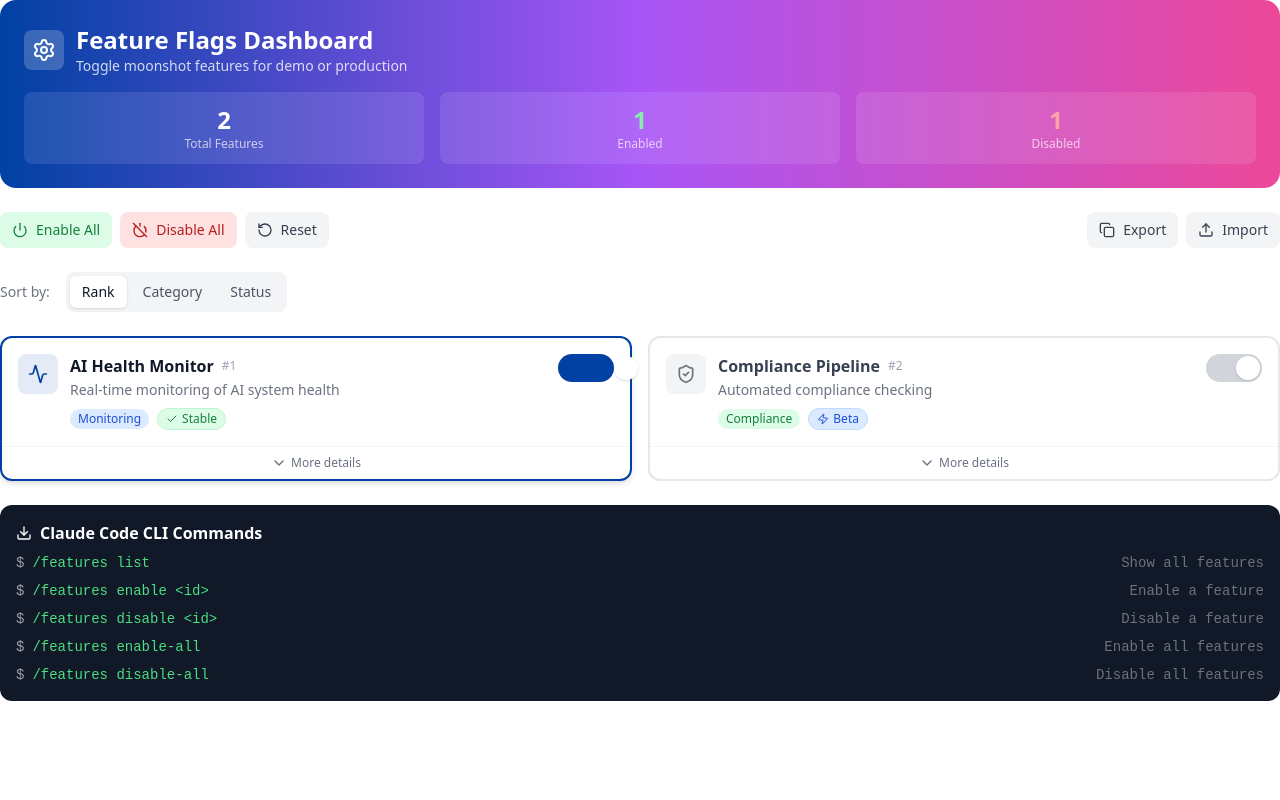
FeatureFlagsDashboard › Import Modal › should close import modal when Cancel clicked
Click the button "Import". click: {"x": 1233, "y": 230}
box: left=1186, top=212, right=1279, bottom=248
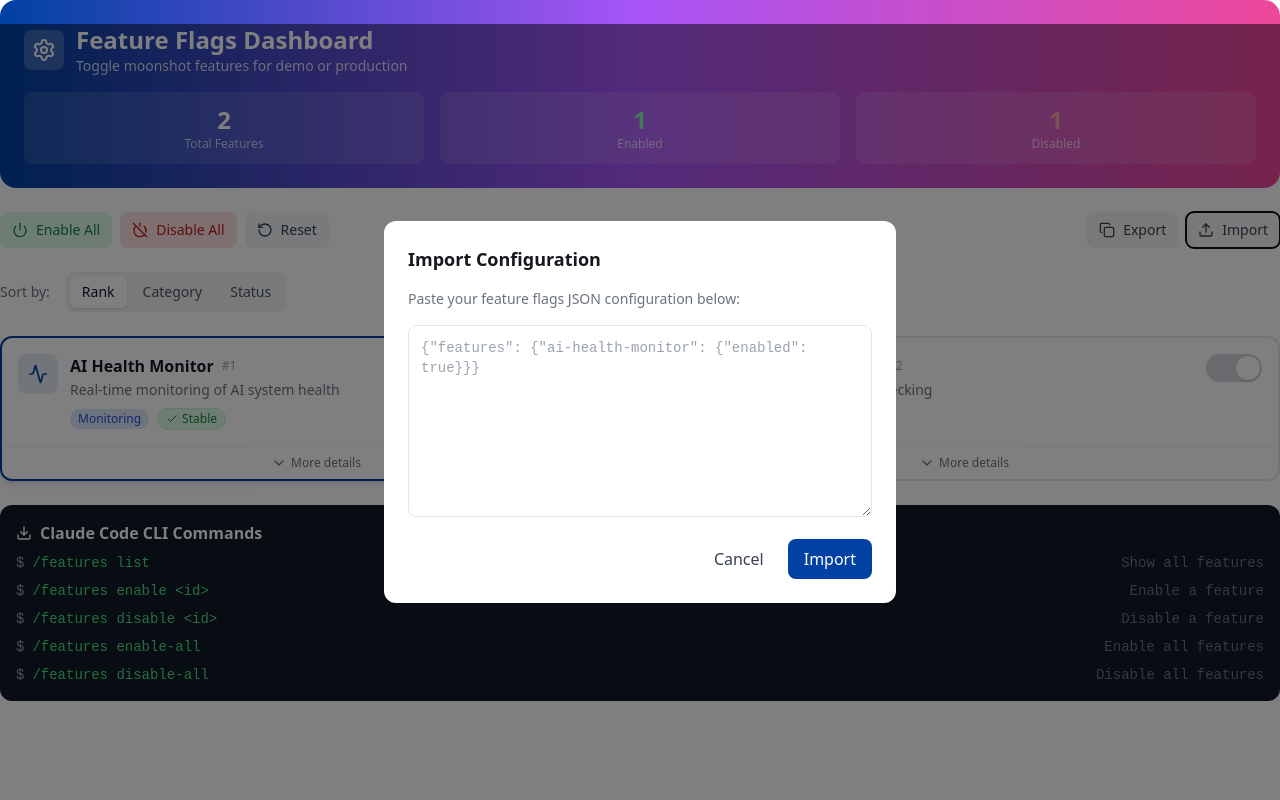
Check: the heading "Import Configuration" is shown, box left=408, top=247, right=601, bottom=271
Click the button "Cancel". click: {"x": 739, "y": 559}
box: left=698, top=539, right=780, bottom=579
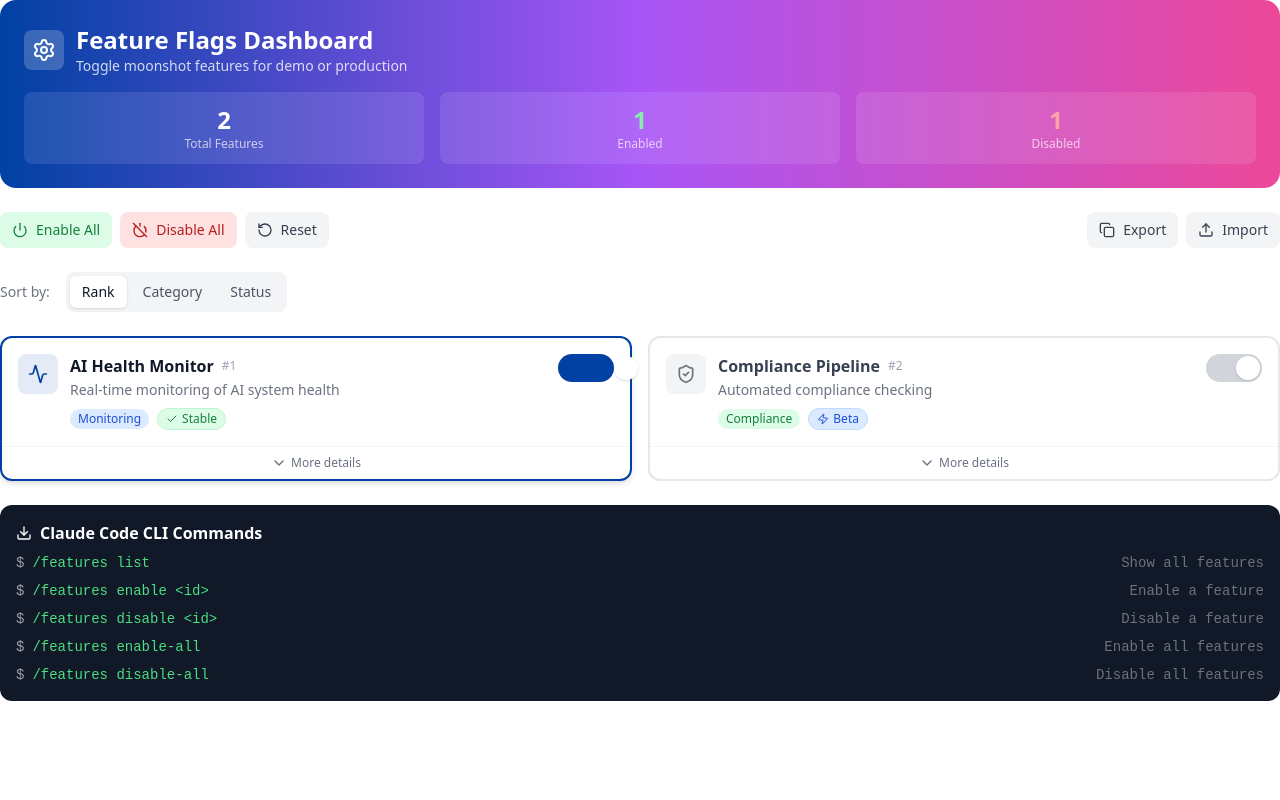
Check: the heading "Import Configuration" is gone
